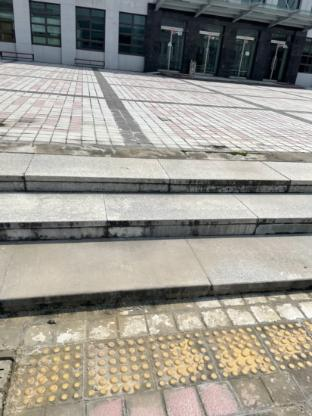stair: (2, 153, 312, 330)
